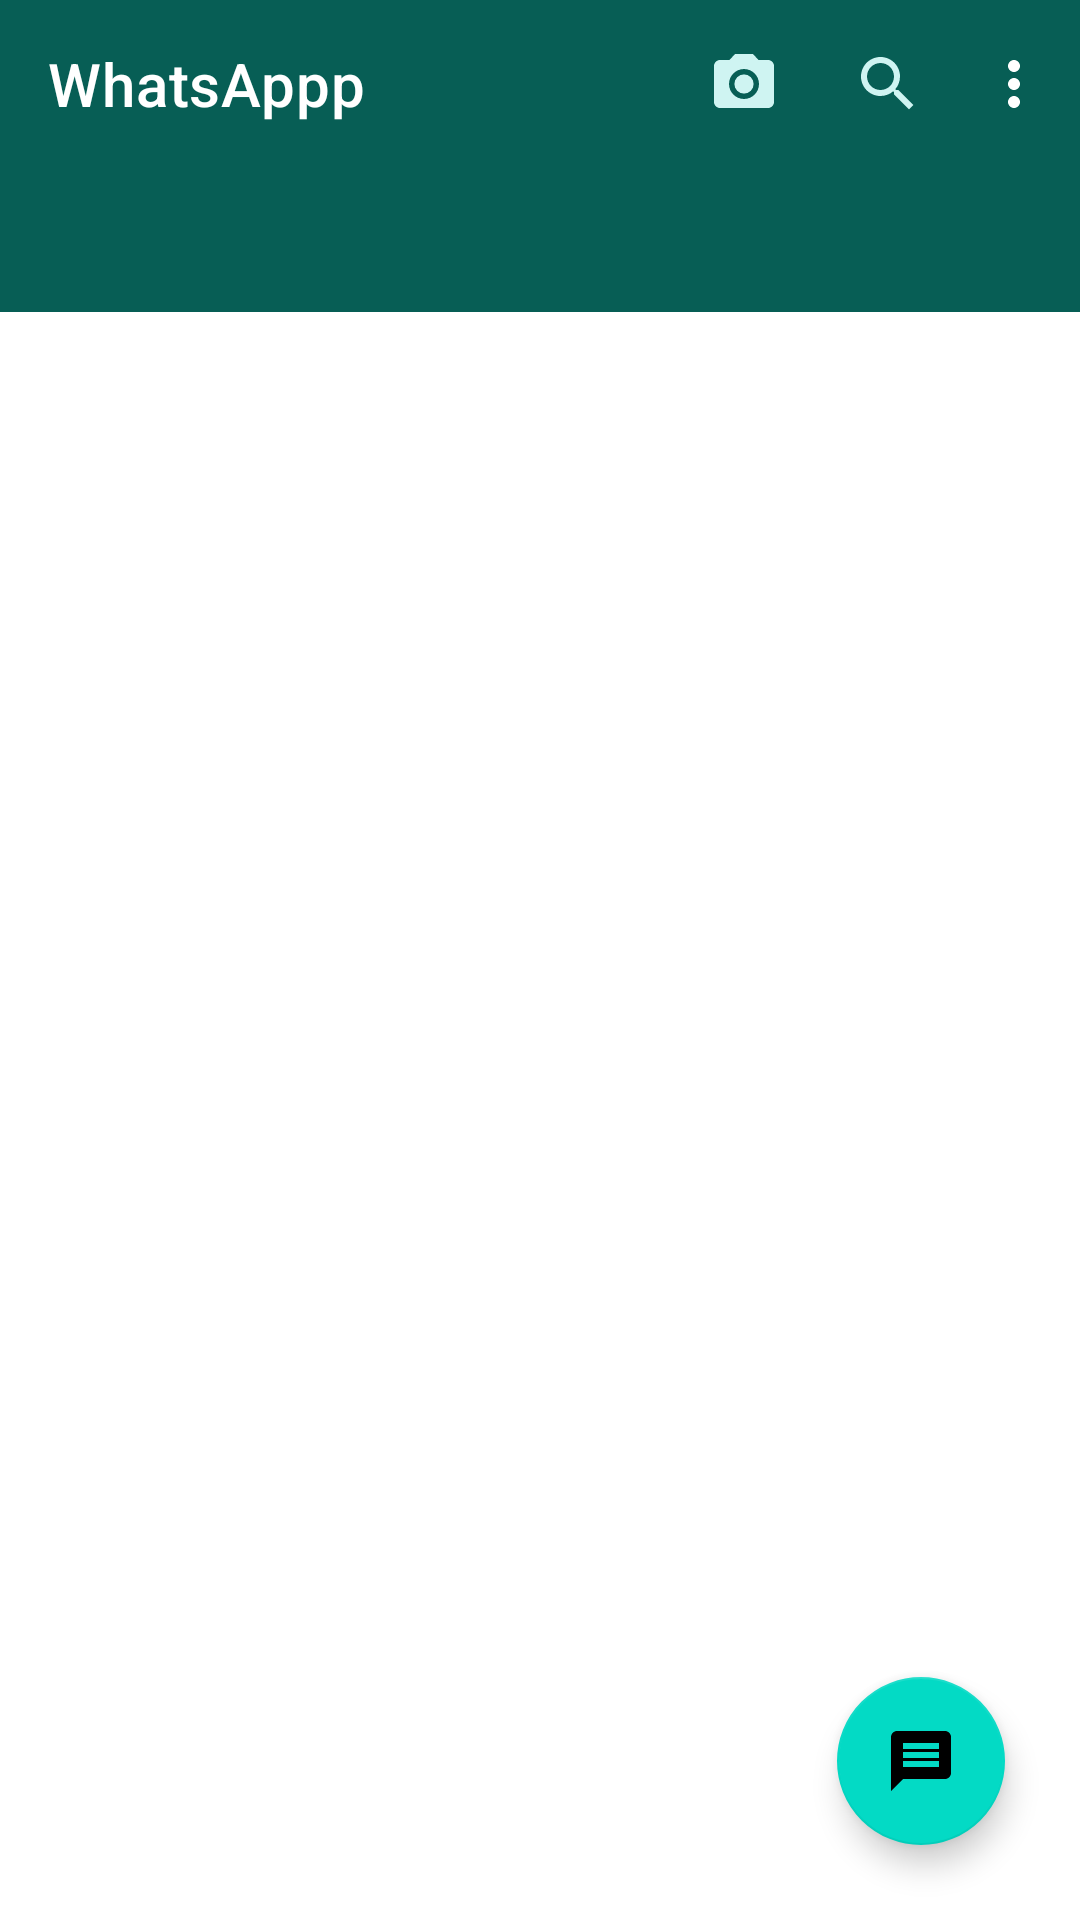

Icon bounding boxes for this 1080 x 1920 phone screenshot, format (x1, y1, x2, y2):
message: (837, 1677, 1005, 1845)
